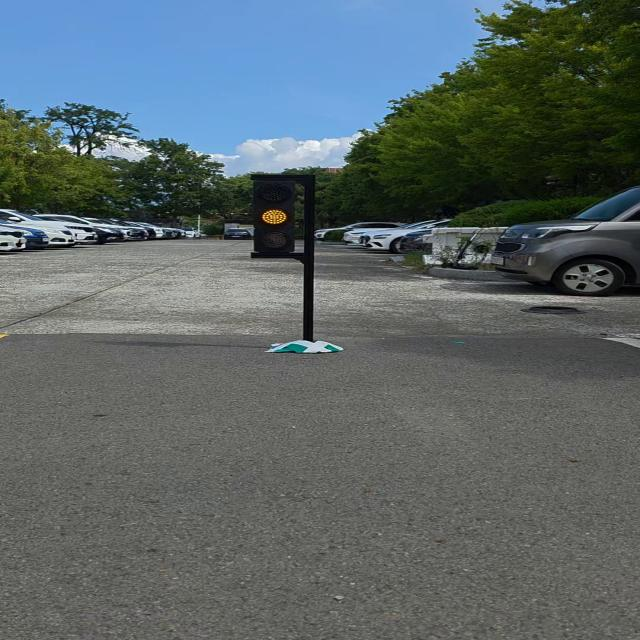yellow: (249, 177, 309, 260)
